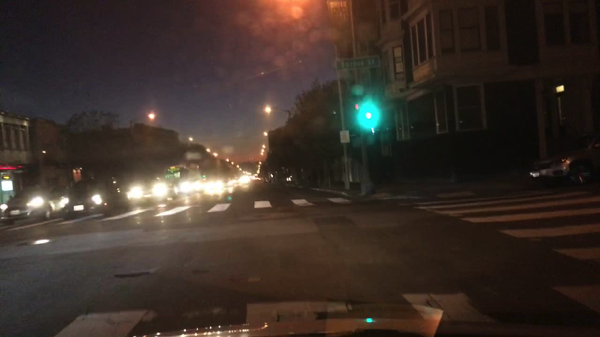car: (527, 134, 599, 189), (61, 179, 125, 219), (1, 186, 69, 223), (130, 179, 172, 201), (208, 181, 225, 195), (182, 181, 200, 193), (238, 175, 250, 185)
traffic light: (352, 101, 362, 121), (363, 103, 373, 119)
traffic sign: (335, 54, 380, 70), (339, 131, 352, 143)
